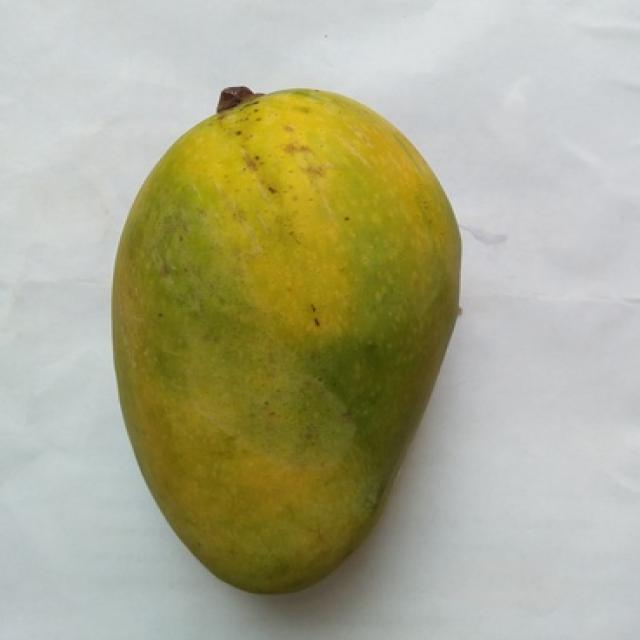Mango: (115, 90, 459, 592)
